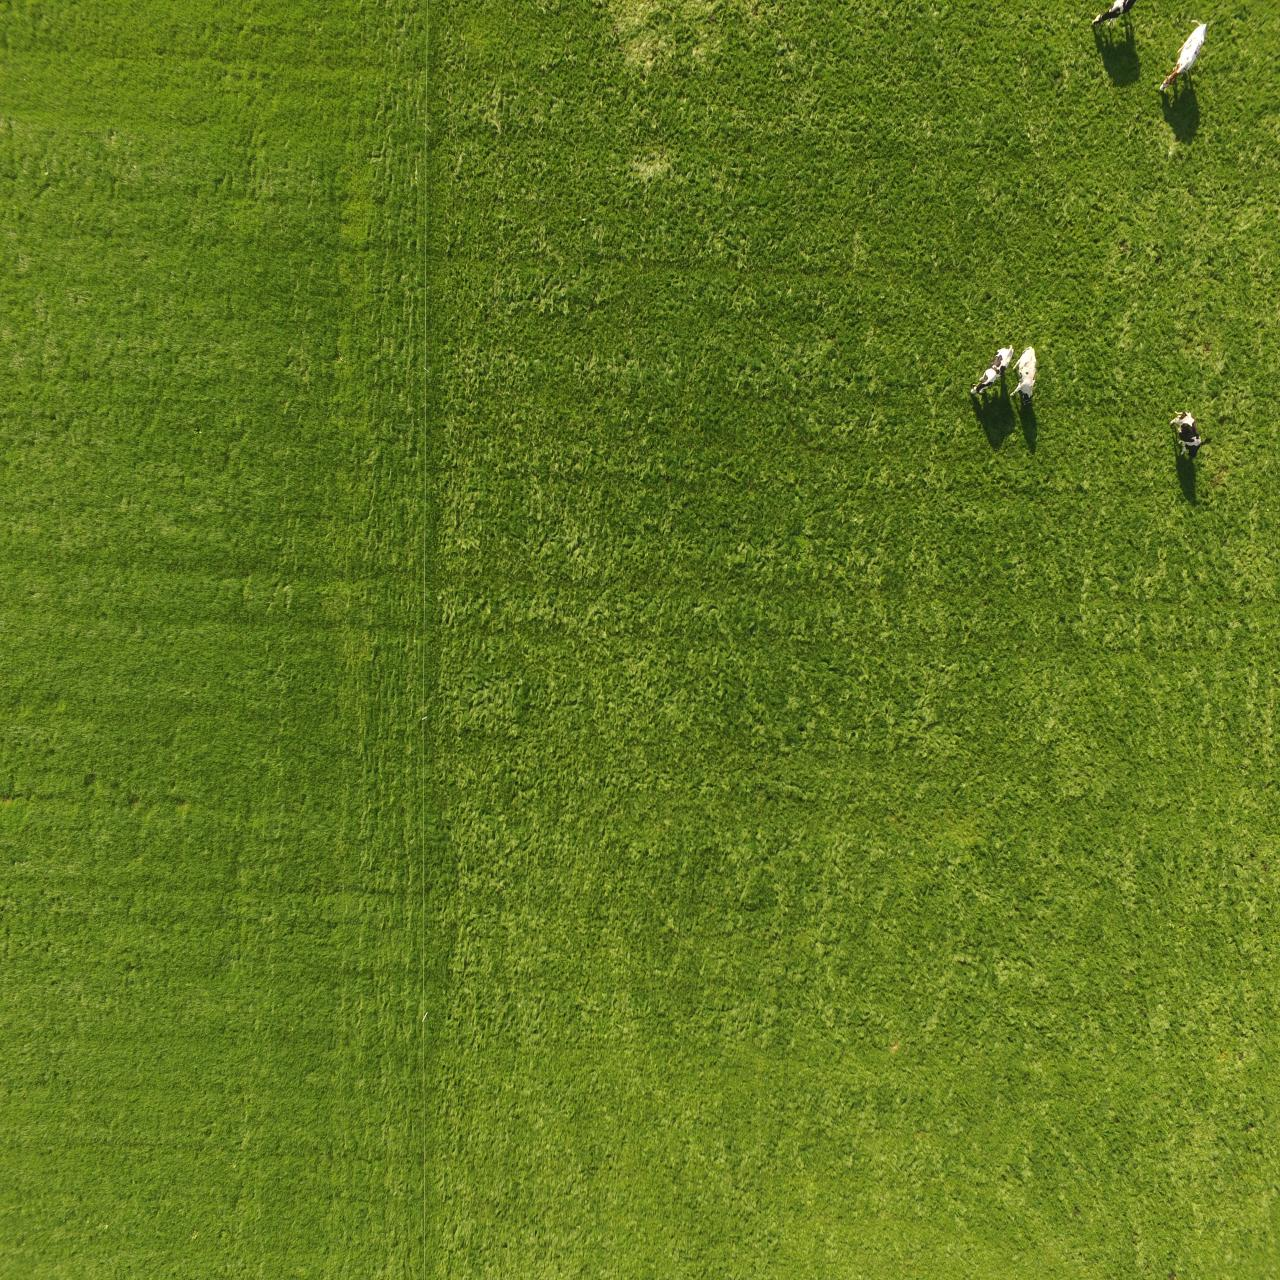cow: (1155, 18, 1220, 103), (966, 340, 1017, 403), (1169, 400, 1212, 474), (1007, 339, 1051, 409)
